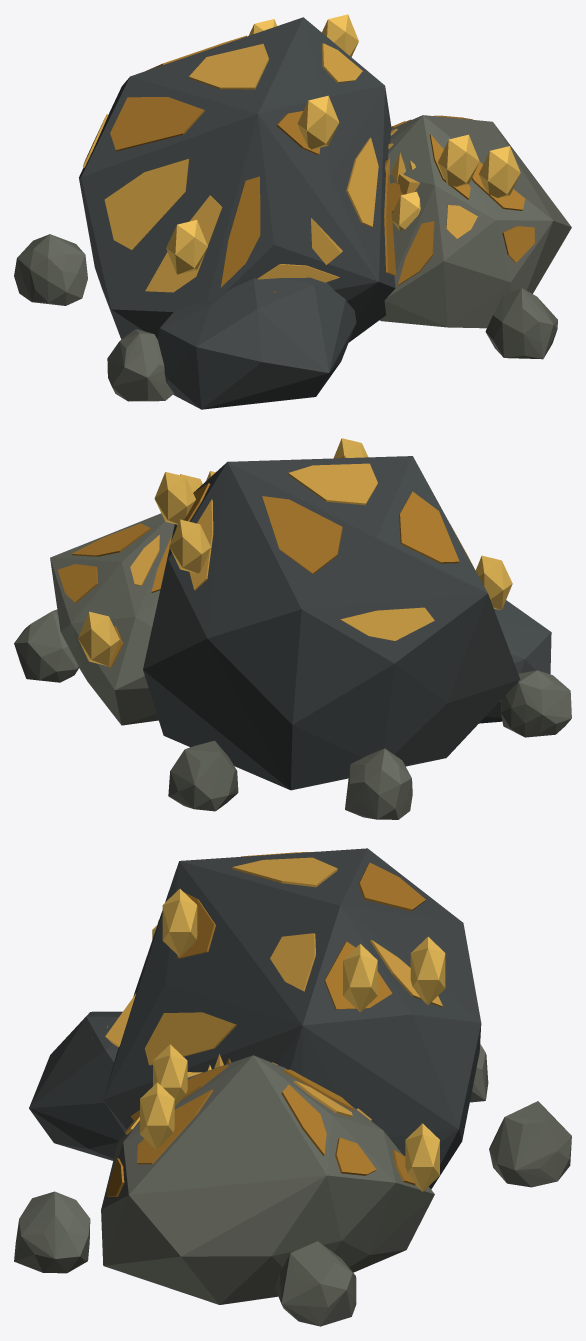
The model's file is gold_vein.glb.
3 views of the same model, one above another, from view 1: azimuth 30°, elevation 25°; view 2: azimuth 150°, elevation 25°; view 3: azimuth 270°, elevation 25° (orthographic). The views are drawn at different scales.
Parts seen in each view (by area): view 1: Stone, Metal; view 2: Stone, Metal; view 3: Stone, Metal.
Boxes of the visible parts, bbox=[...] form: Stone: bbox=[14, 17, 571, 409]; Metal: bbox=[83, 14, 534, 292]; Stone: bbox=[14, 456, 571, 819]; Metal: bbox=[57, 438, 512, 667]; Stone: bbox=[14, 848, 571, 1326]; Metal: bbox=[105, 851, 445, 1196].
Size of the model in its own units: 3.79 by 1.96 by 3.29.
